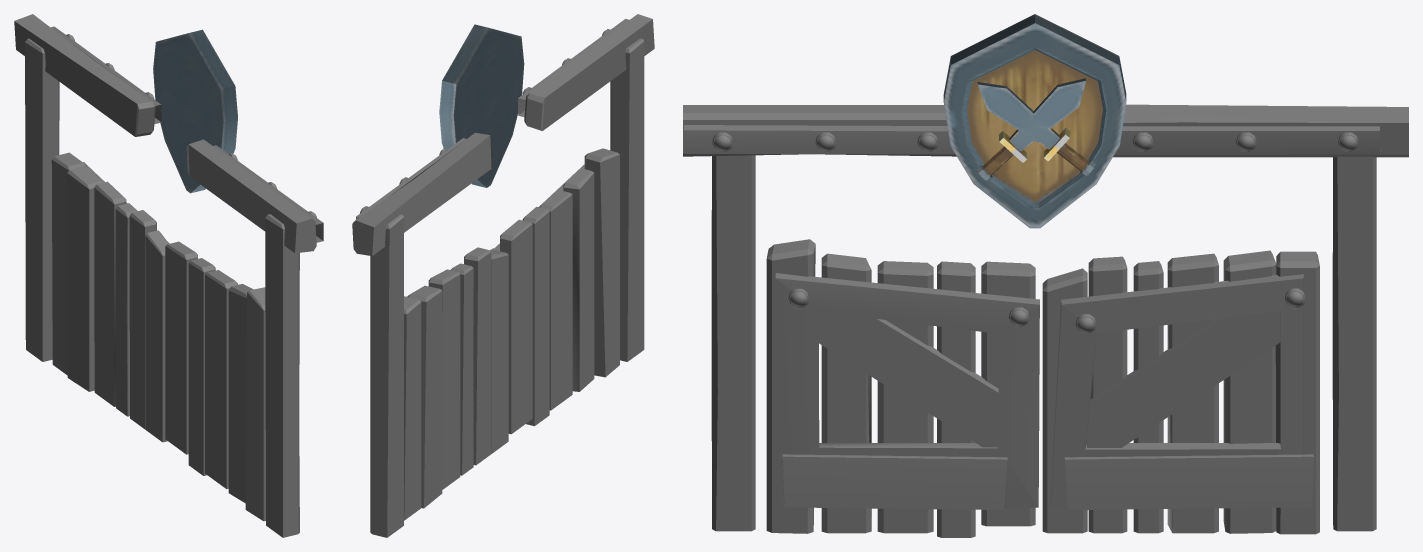
The picture shows the model from 3 angles, left to right: view 1: azimuth 30°, elevation 25°; view 2: azimuth 150°, elevation 25°; view 3: azimuth 270°, elevation 25°; orthographic projection. The views are drawn at different scales.
Parts seen in each view (by area): view 1: fbx_men_02, fbx_men_01, 对象013, 对象012, c, 对象003, 对象005, 对象004, 对象002; view 2: fbx_men_01, fbx_men_02, 对象012, c, 对象013, 对象003, 对象005, 对象002, 对象004; view 3: fbx_men_02, fbx_men_01, c, 对象013, 对象012, 对象003, 对象002, 对象004, 对象005, a.
Part boxes in pixels (x1,y1,x2,y2): fbx_men_02: (51, 152, 169, 442); fbx_men_01: (165, 241, 265, 521); 对象013: (265, 214, 299, 537); 对象012: (25, 38, 59, 361); c: (153, 29, 237, 193); 对象003: (14, 14, 155, 136); 对象005: (186, 139, 316, 253); 对象004: (51, 26, 161, 124); 对象002: (213, 145, 323, 242); fbx_men_01: (489, 148, 619, 434); fbx_men_02: (404, 247, 508, 520); 对象012: (370, 214, 403, 537); c: (439, 24, 524, 187); 对象013: (610, 38, 644, 361); 对象003: (352, 132, 493, 255); 对象005: (524, 14, 654, 130); 对象002: (518, 19, 629, 116); 对象004: (356, 138, 466, 219); fbx_men_02: (1042, 250, 1319, 534); fbx_men_01: (766, 239, 1039, 537); c: (943, 14, 1126, 228); 对象013: (711, 155, 755, 531); 对象012: (1332, 156, 1376, 531); 对象003: (1113, 104, 1408, 157); 对象002: (684, 125, 954, 154); 对象004: (1115, 126, 1380, 154); 对象005: (683, 105, 956, 156); a: (976, 78, 1095, 180).
Bounding box in the file's own units: 39.98 × 275 × 342.
